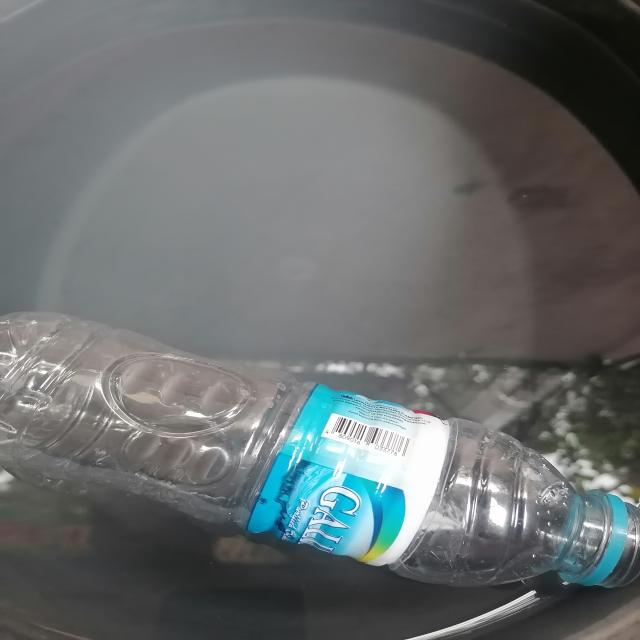Plastic Bottle: (0, 312, 640, 588)
